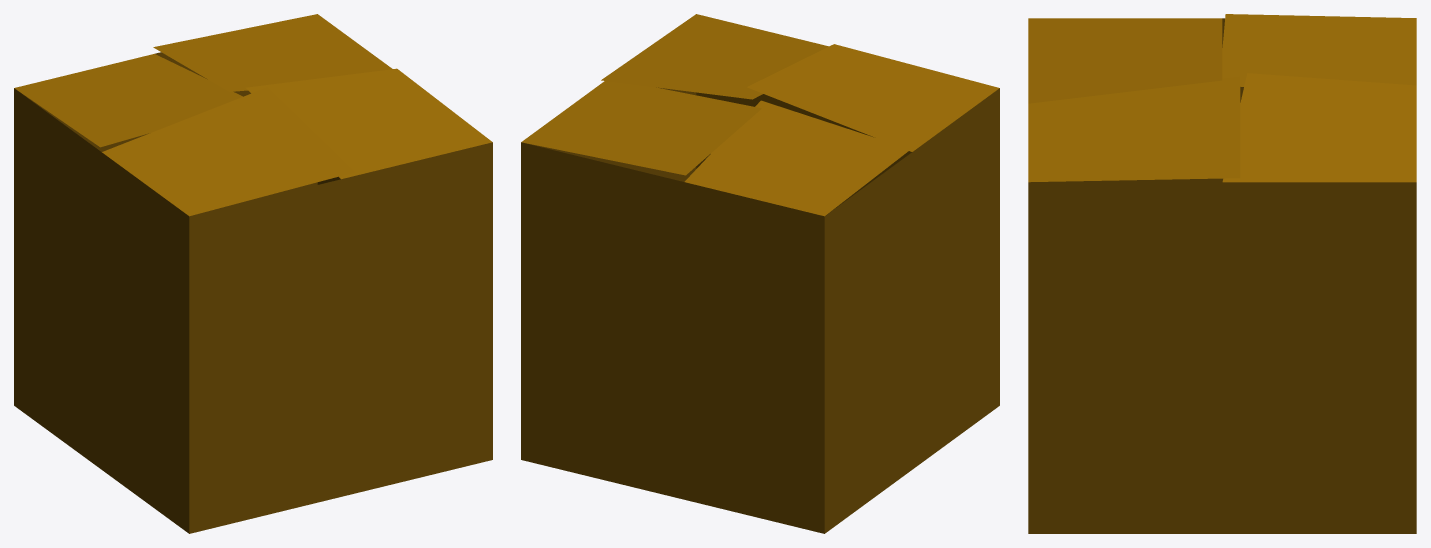
The model's file is Box Closed.fbx.
3 views of the same model, side by side, from view 1: azimuth 30°, elevation 25°; view 2: azimuth 150°, elevation 25°; view 3: azimuth 270°, elevation 25° (orthographic). The views are drawn at different scales.
Visible parts, largest first — view 1: Box Closed; view 2: Box Closed; view 3: Box Closed.
Boxes of the visible parts, x1,y1,x2,y2 form: Box Closed: (14, 14, 492, 533); Box Closed: (521, 14, 999, 533); Box Closed: (1028, 14, 1416, 533).
Size of the model in its own units: 60 by 64.63 by 60.
